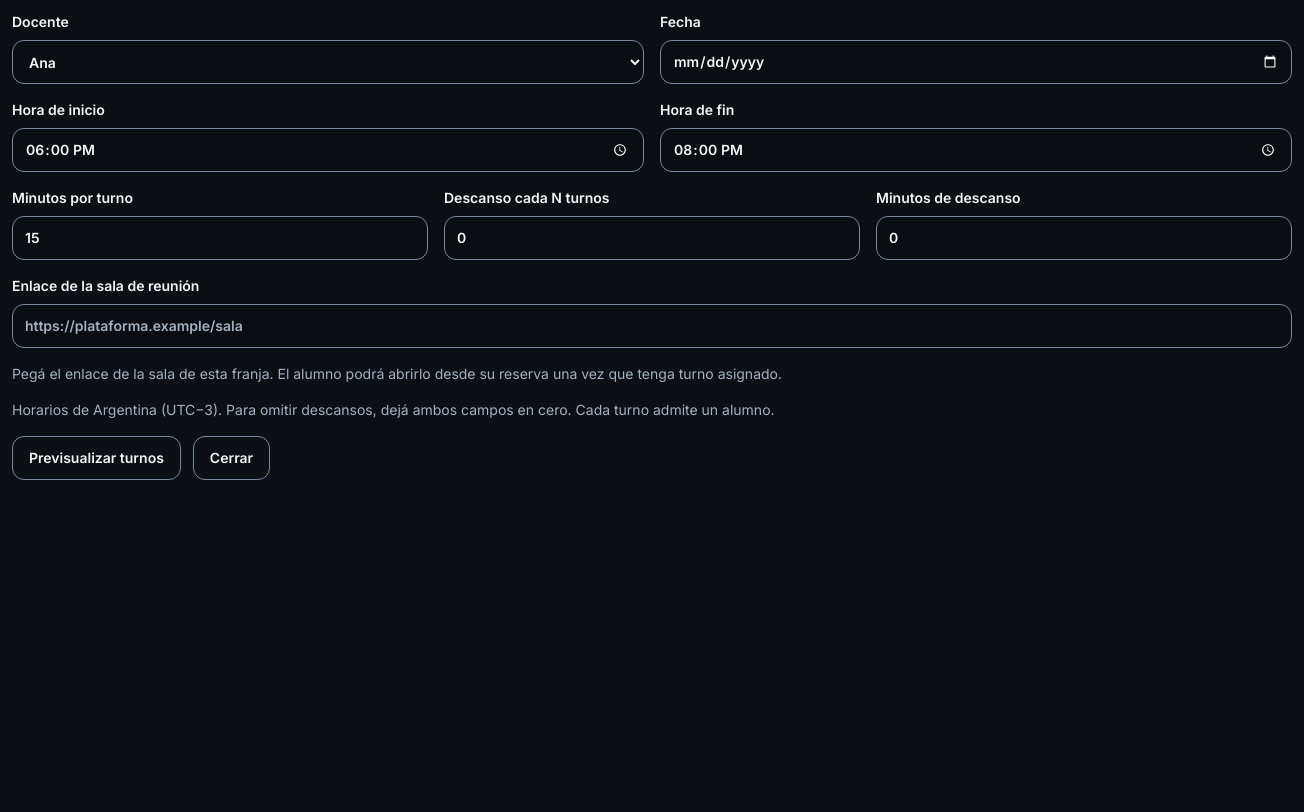
Test case: formularios de revisiones › invalida una vista previa si se cambia la duración
Type "2026-10-20" into the date field labelled "Fecha" at point(976, 62), box 660,40 -> 1292,84
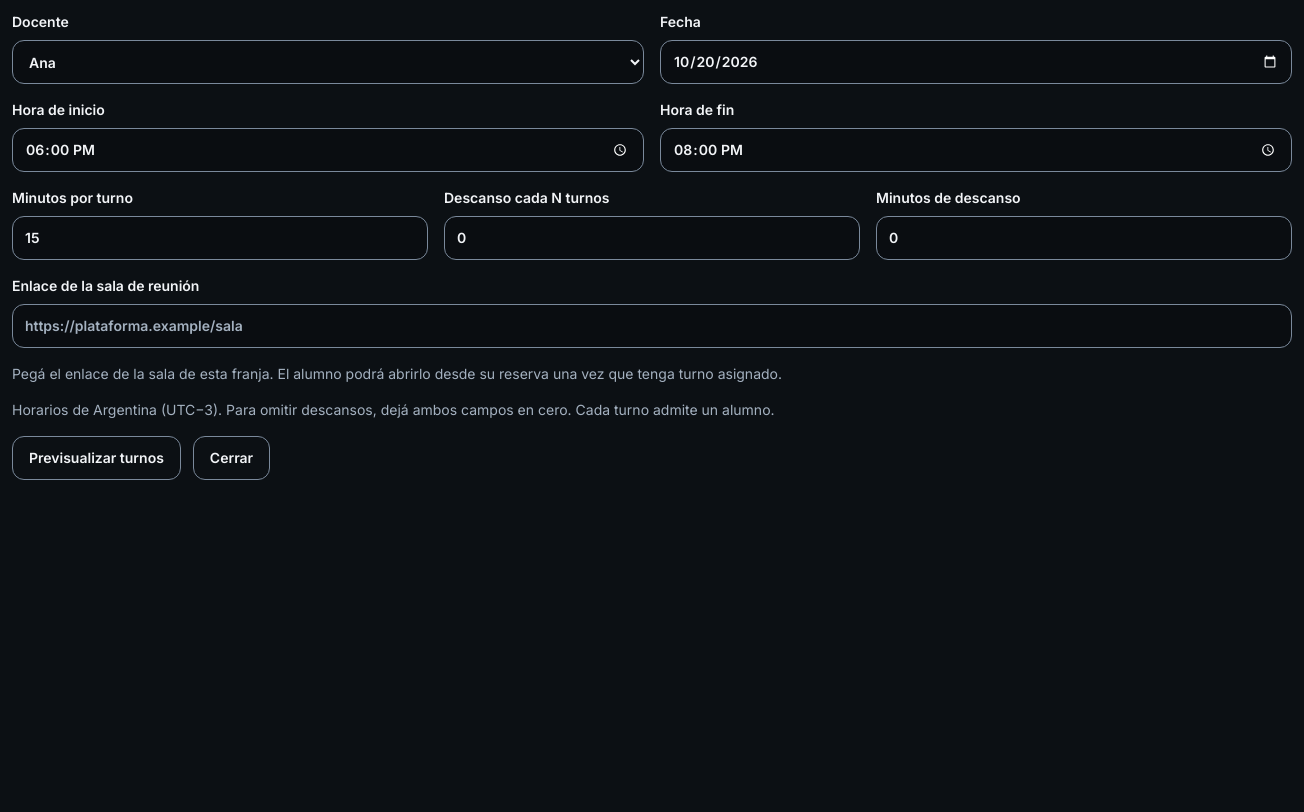
Click the button "Previsualizar turnos" at point(96, 458), box 12,436 -> 181,480
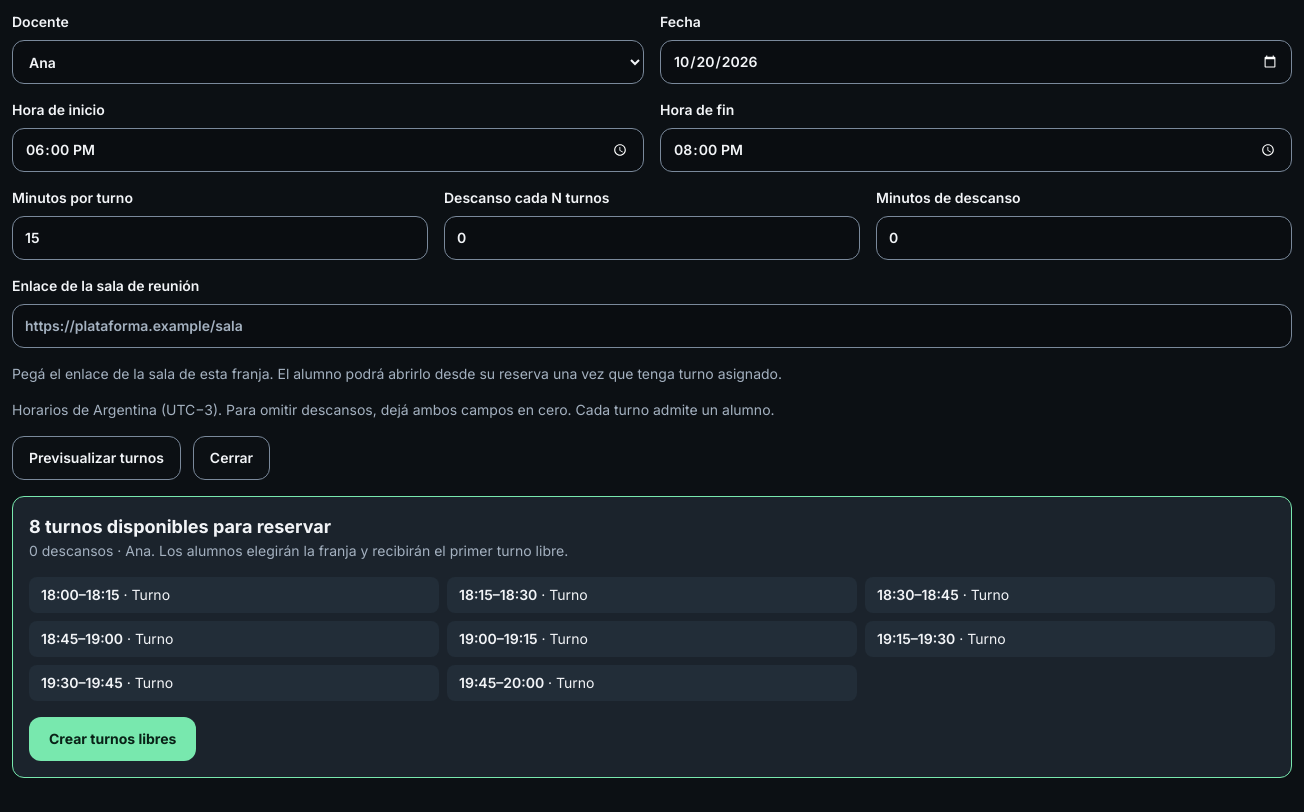
Expected: the button "Crear turnos libres" is shown, 29,717 -> 196,761
Replace the text in the number field labelled "Minutos por turno" with "30" at point(220, 238), box 12,216 -> 428,260
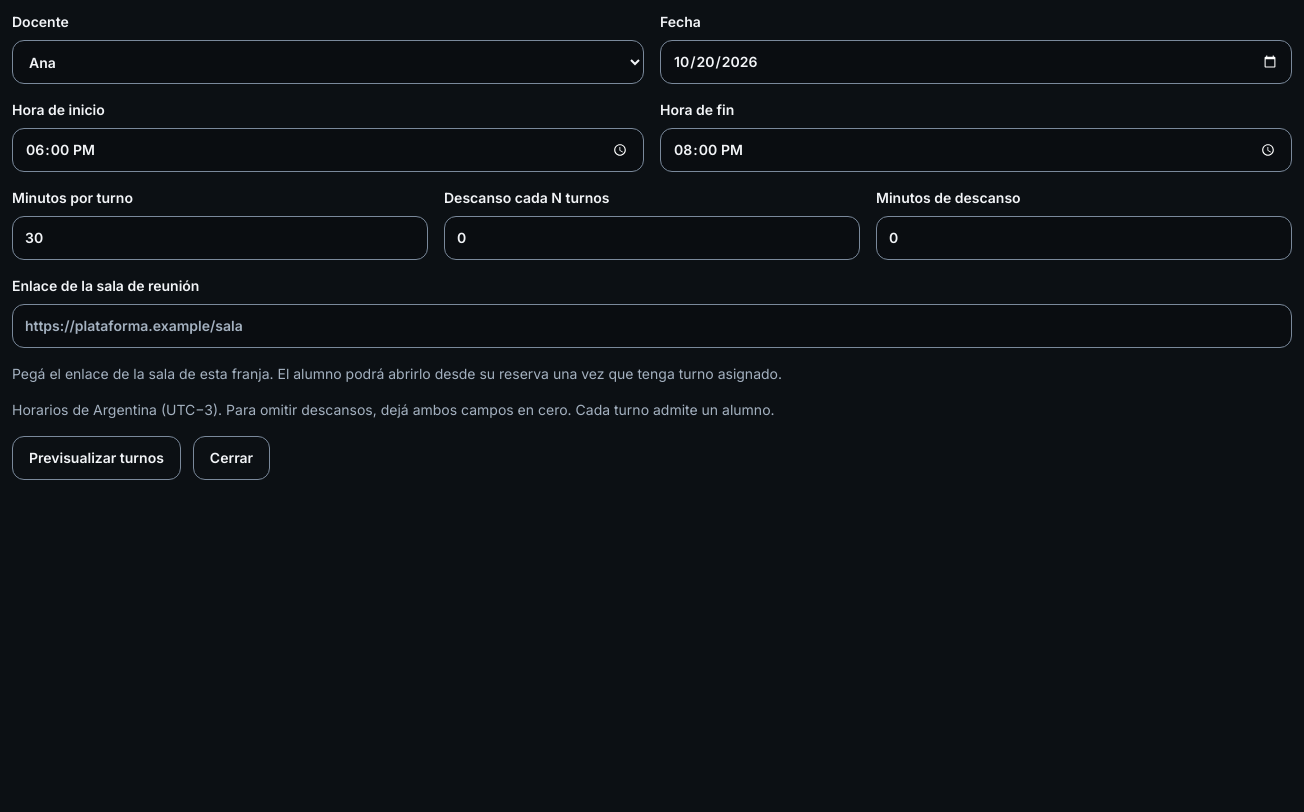
Expected: the button "Crear turnos libres" is gone
